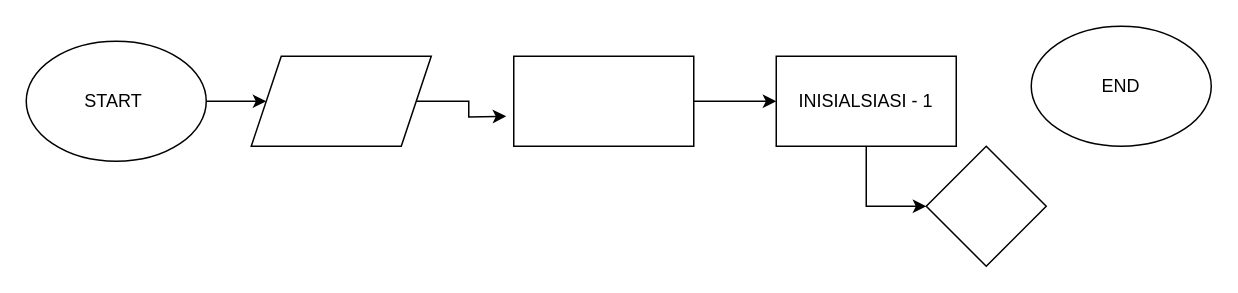
Image size: 1238x293. Some labels were removed from this diagram. The centre of each missing label's shape, as x and y in pixels:
HITUNG PANJANG DARI STRING: (603,100)
INPUT STRING: (340,100)
